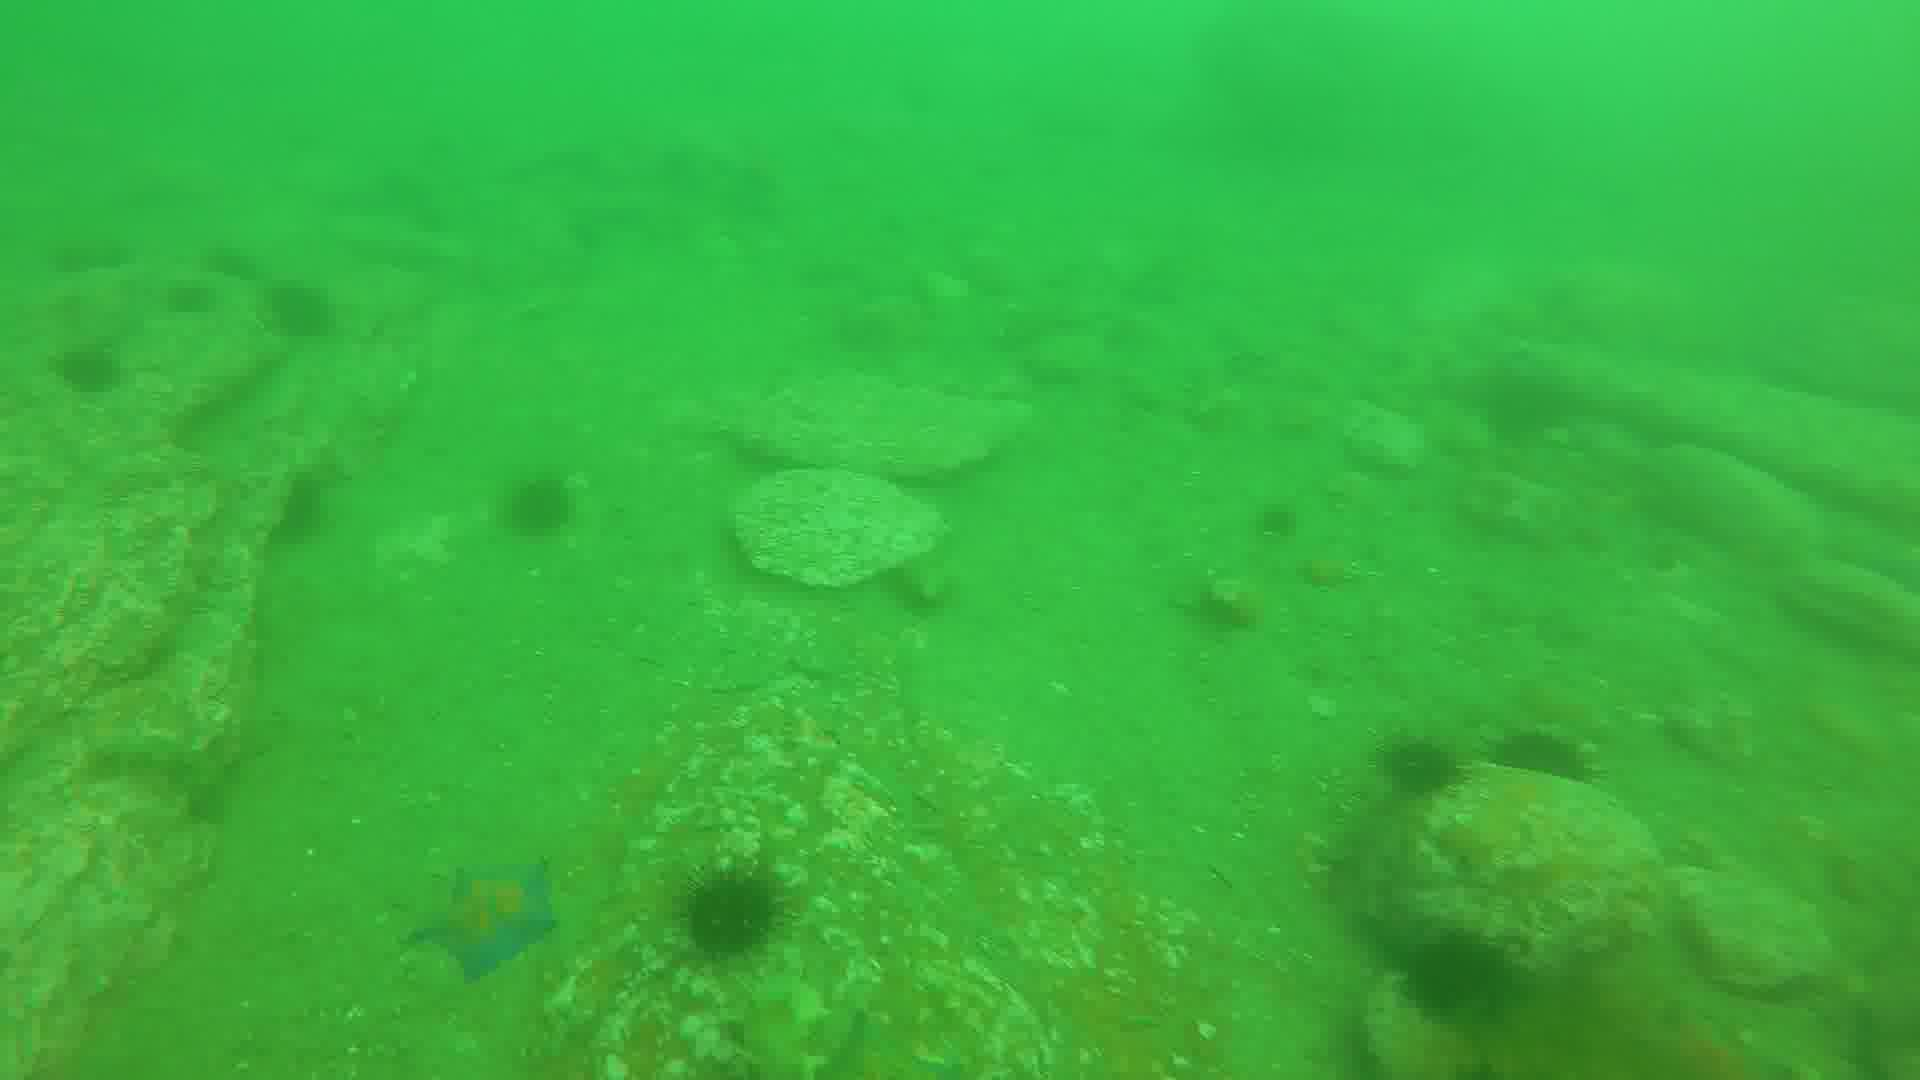echinus: (1415, 920, 1513, 1014), (688, 873, 783, 956), (262, 272, 328, 344), (497, 484, 578, 541), (1506, 740, 1589, 793), (1389, 735, 1458, 791), (61, 344, 127, 398), (202, 247, 257, 286), (171, 280, 222, 320)
starfish: (418, 857, 559, 978), (1609, 1004, 1797, 1080)
